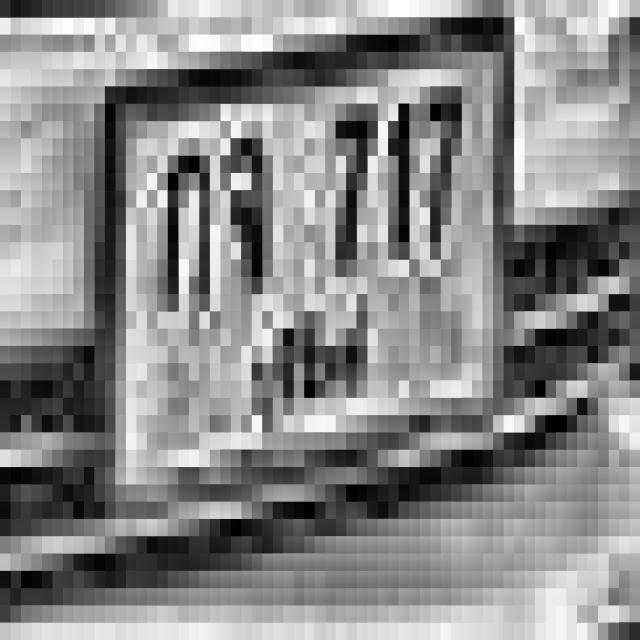license-plate: (101, 16, 504, 508)
